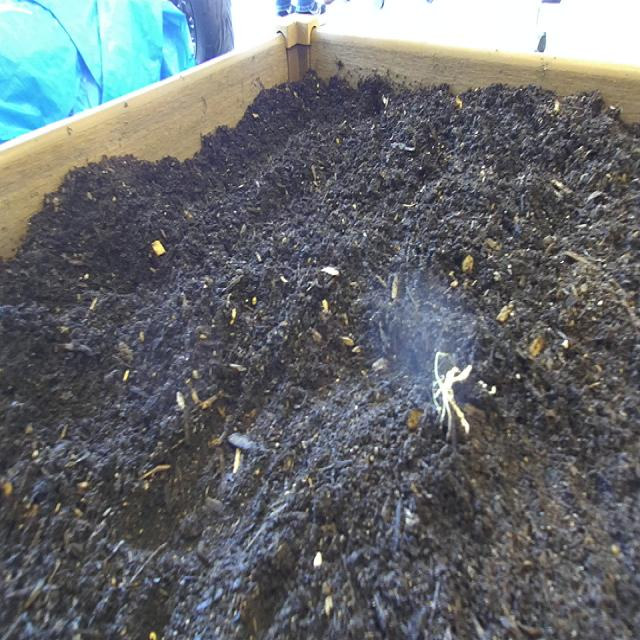Unhealthy: (426, 335, 479, 448)
